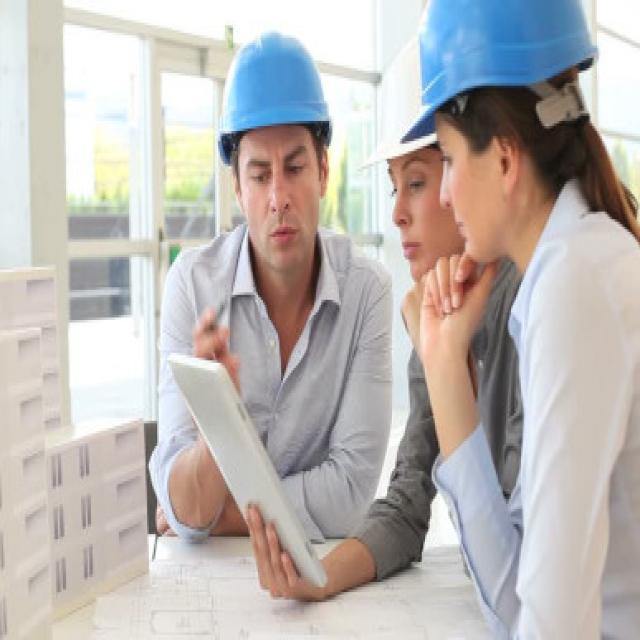blue helmet: (394, 1, 598, 147), (215, 22, 338, 171)
white helmet: (357, 31, 457, 179)
